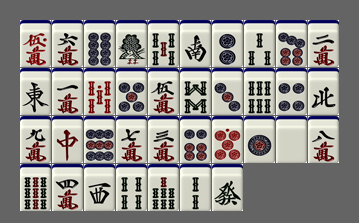0m: (20, 20, 51, 67)
0p: (212, 116, 243, 163)
0s: (84, 68, 115, 115)
1m: (52, 68, 83, 115)
1p: (244, 116, 275, 163)
1s: (116, 20, 147, 67)
1z: (20, 68, 51, 115)
2m: (308, 20, 339, 67)
2p: (212, 20, 243, 67)
2s: (180, 164, 211, 211)
2z: (180, 20, 211, 67)
3m: (148, 116, 179, 163)
3p: (212, 68, 243, 115)
3s: (244, 20, 275, 67)
3z: (84, 164, 115, 211)
4m: (52, 164, 83, 211)
4p: (276, 68, 307, 115)
4s: (116, 164, 147, 211)
4z: (308, 68, 339, 115)
5m: (148, 68, 179, 115)
5p: (116, 68, 147, 115)
5s: (148, 20, 179, 67)
5z: (276, 116, 307, 163)
6m: (52, 20, 83, 67)
6p: (180, 116, 211, 163)
6s: (244, 68, 275, 115)
6z: (212, 164, 243, 211)
7m: (116, 116, 147, 163)
7p: (276, 20, 307, 67)
7s: (148, 164, 179, 211)
7z: (52, 116, 83, 163)
8m: (308, 116, 339, 163)
8p: (84, 20, 115, 67)
8s: (180, 68, 211, 115)
9m: (20, 116, 51, 163)
9p: (84, 116, 115, 163)
9s: (20, 164, 51, 211)
